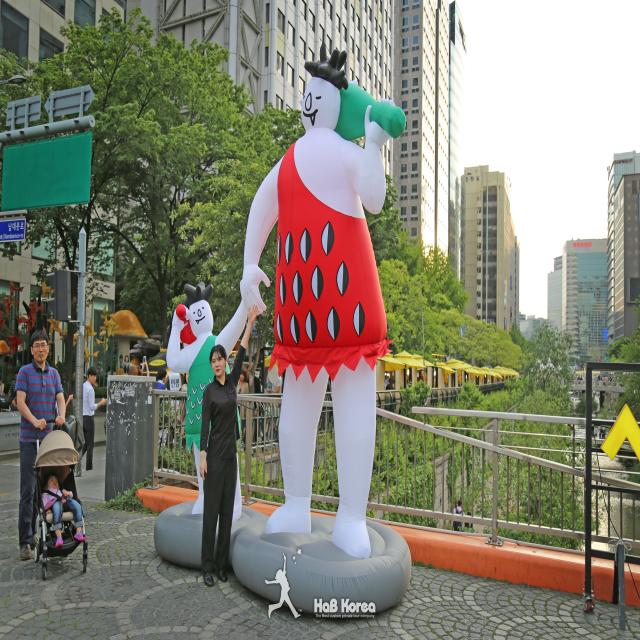body: (242, 50, 408, 569), (162, 278, 242, 518), (195, 301, 259, 590), (14, 326, 66, 564), (41, 473, 86, 548), (82, 365, 107, 471), (264, 569, 306, 621), (376, 374, 491, 390), (172, 373, 190, 450), (246, 363, 261, 449), (236, 368, 249, 441), (573, 371, 632, 385), (122, 353, 149, 379), (52, 394, 76, 418), (266, 376, 282, 408), (451, 499, 466, 532), (588, 421, 608, 439), (8, 371, 18, 406), (462, 512, 476, 532), (157, 367, 168, 391), (265, 369, 272, 395), (0, 377, 5, 412), (11, 394, 18, 408)
